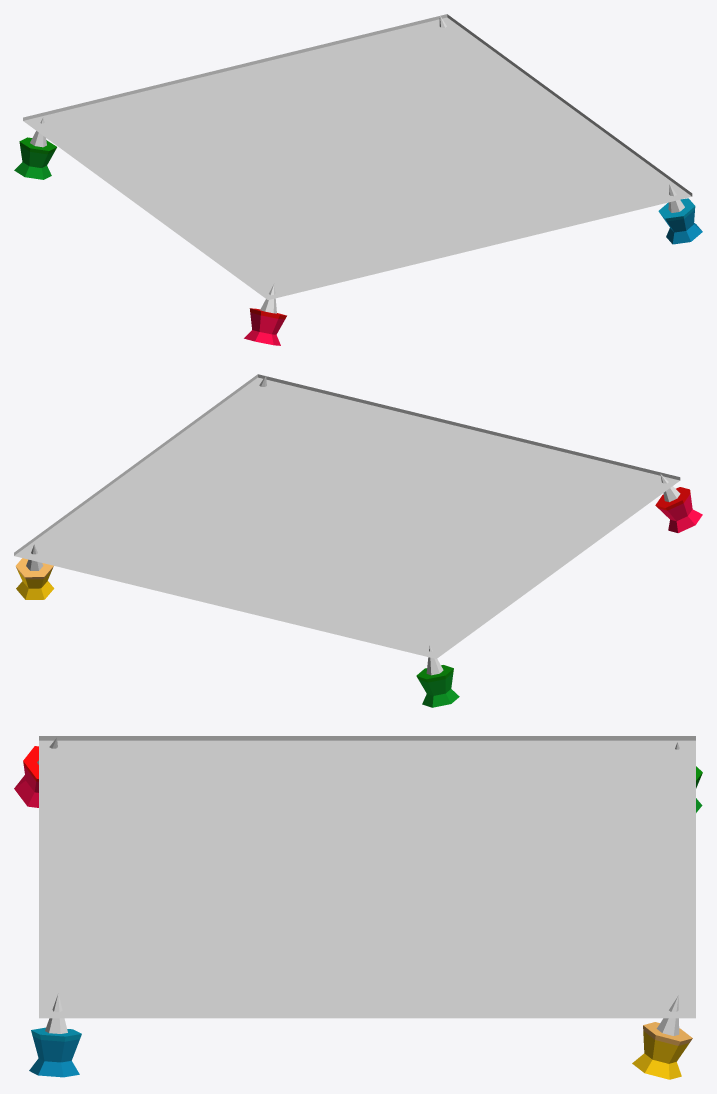
The model's file is Pins.glb.
3 renders of one model, top to bottom at view 1: azimuth 30°, elevation 25°; view 2: azimuth 150°, elevation 25°; view 3: azimuth 270°, elevation 25°, orthographic. The views are drawn at different scales.
Parts seen in each view (by area): view 1: PF_Pin; view 2: PF_Pin; view 3: PF_Pin.
Boxes of the visible parts, x1,y1,x2,y2 form: PF_Pin: (14, 14, 702, 345); PF_Pin: (14, 374, 702, 707); PF_Pin: (14, 736, 702, 1079).
Size of the model in its own units: 1.2 by 0.1559 by 1.17.
3 materials, 1 textured.
